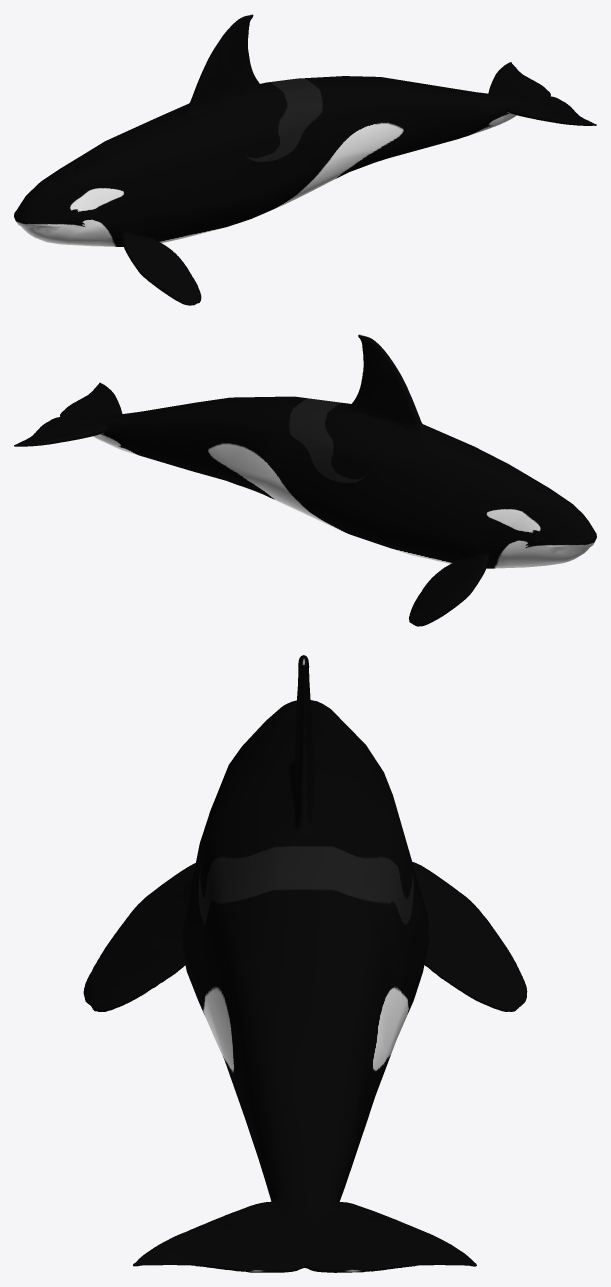
Rendered from Orca.dae.
The picture shows the model from 3 angles, top to bottom: view 1: azimuth 30°, elevation 25°; view 2: azimuth 150°, elevation 25°; view 3: azimuth 270°, elevation 25°; orthographic projection. The views are drawn at different scales.
Parts seen in each view (by area): view 1: KWHFL; view 2: KWHFL; view 3: KWHFL.
Boxes of the visible parts, <box> form: KWHFL: <box>14,14,596,305</box>; KWHFL: <box>14,334,596,626</box>; KWHFL: <box>83,655,527,1272</box>.
Bounding box in the file's own units: 657 × 234 × 261.
2 materials, 2 textured.
